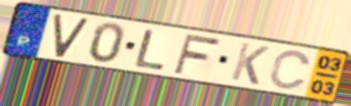0: (88, 21, 128, 65)
C: (267, 49, 313, 91)
F: (171, 32, 223, 76)
K: (228, 41, 271, 87)
L: (132, 28, 168, 72)
V: (52, 13, 92, 60)
